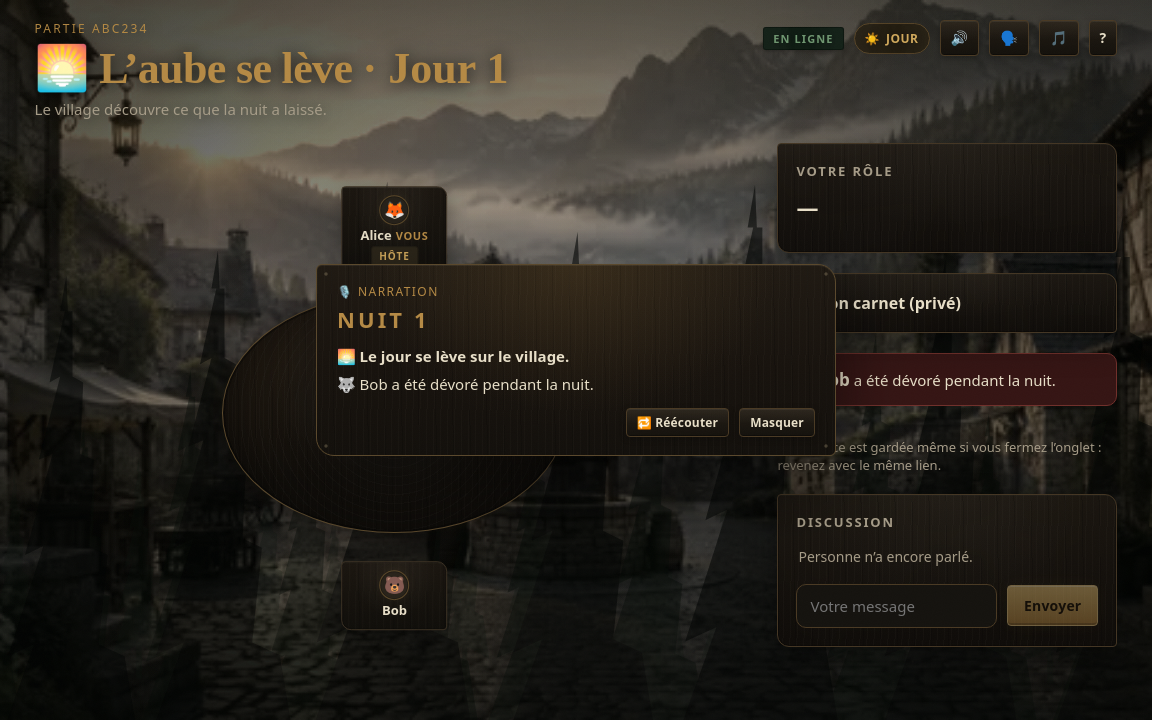
Scenario: Game — récit de l’aube › masque la carte et fait taire la voix
Click the button "Masquer" at [777, 422], box [739,408,815,437]
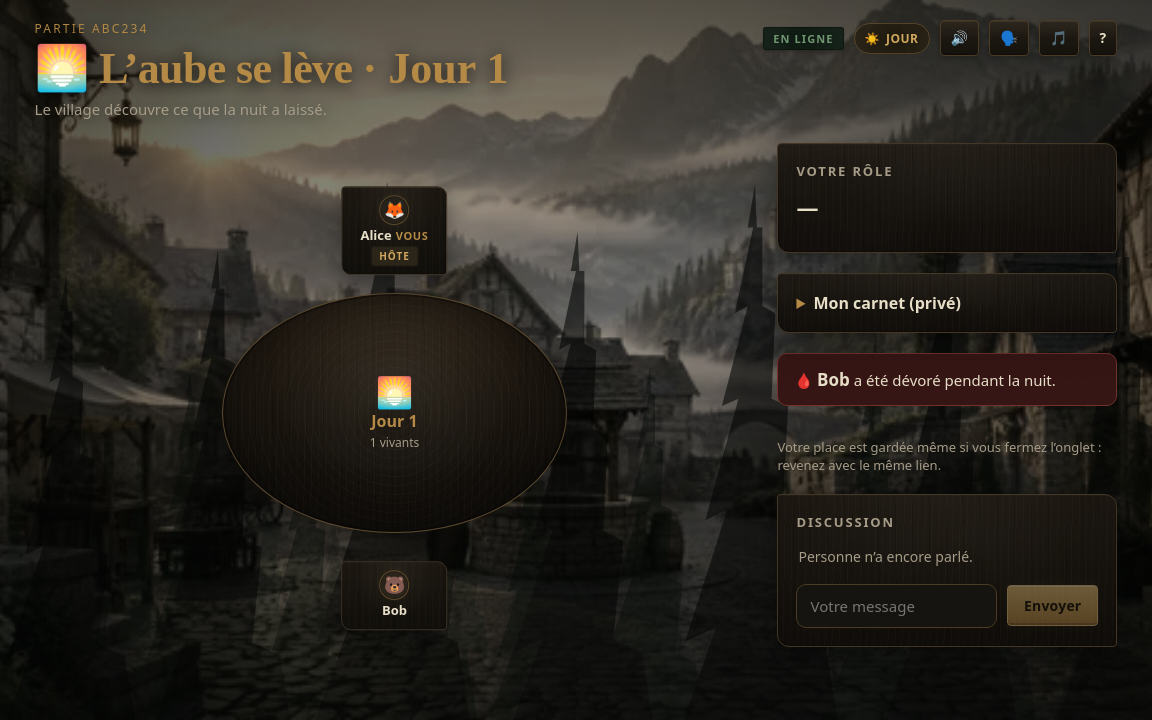
expect the heading "Nuit 1" is gone: met
